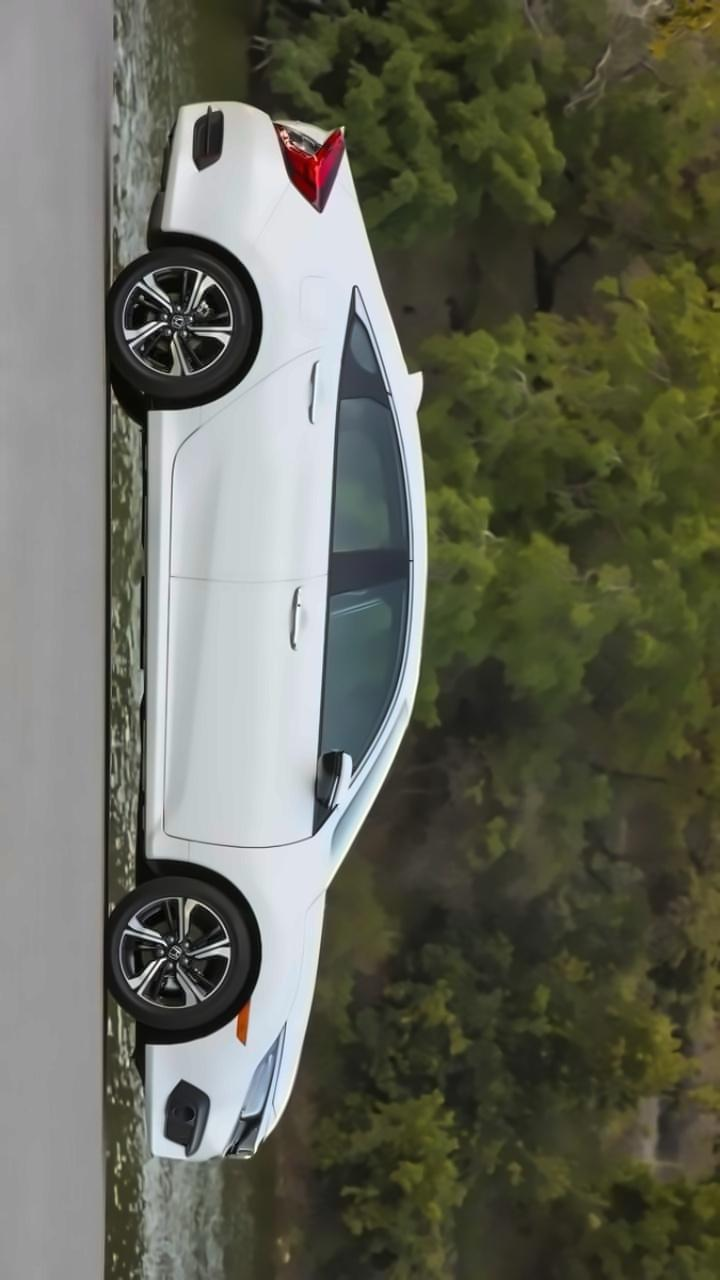Car hood: (270, 876, 331, 1158)
Driver-s door - -F-R-: (138, 556, 436, 860)
Front bumper: (128, 1026, 235, 1174)
Headlight - -R-: (225, 1022, 290, 1158)
Passenger-s door - -R-R-: (136, 334, 447, 583)
Rear bumper: (148, 92, 246, 252)
Rear light - -R-: (268, 100, 351, 216)
Side bumper - -R-: (112, 404, 225, 869)
Side mirror - -R-: (294, 734, 362, 849)
